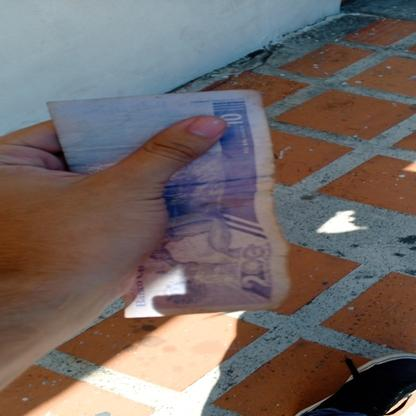ten-back-vef: (44, 90, 294, 312)
